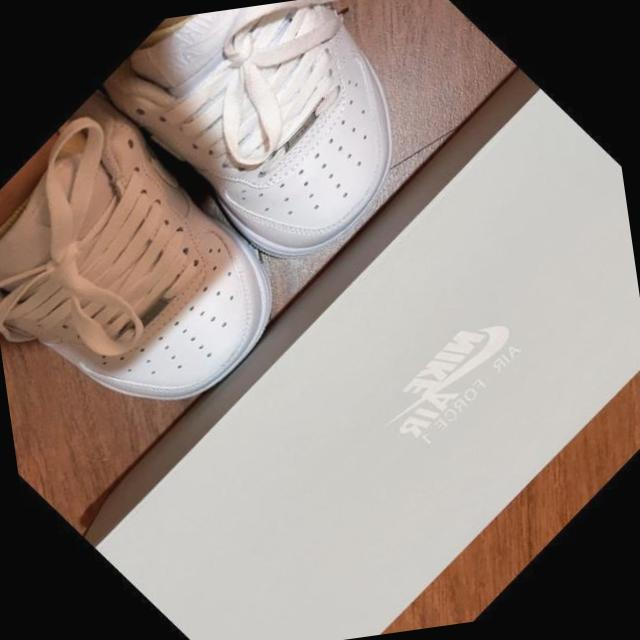nike_original_airforce: (0, 61, 338, 500), (75, 0, 495, 318)
